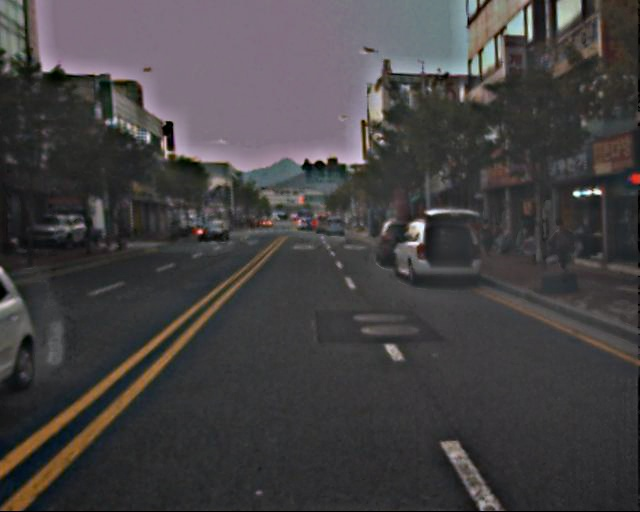person: (543, 219, 575, 285), (477, 218, 497, 266)
